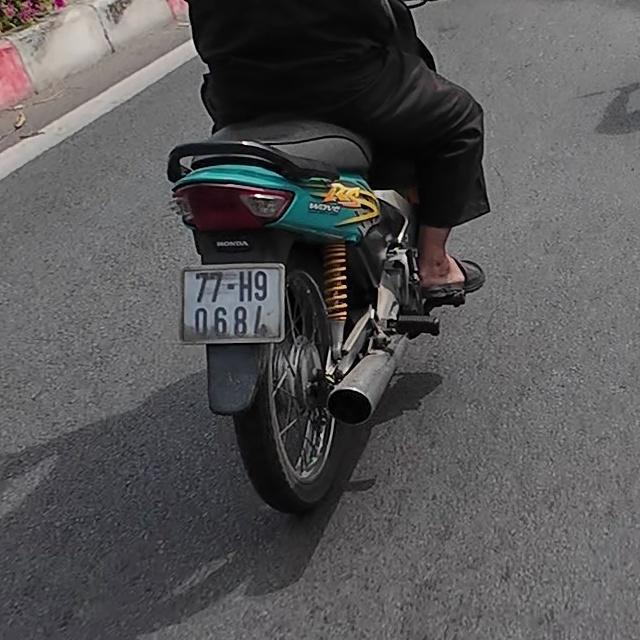motorcycle: (166, 114, 442, 522)
plate: (172, 257, 287, 349)
